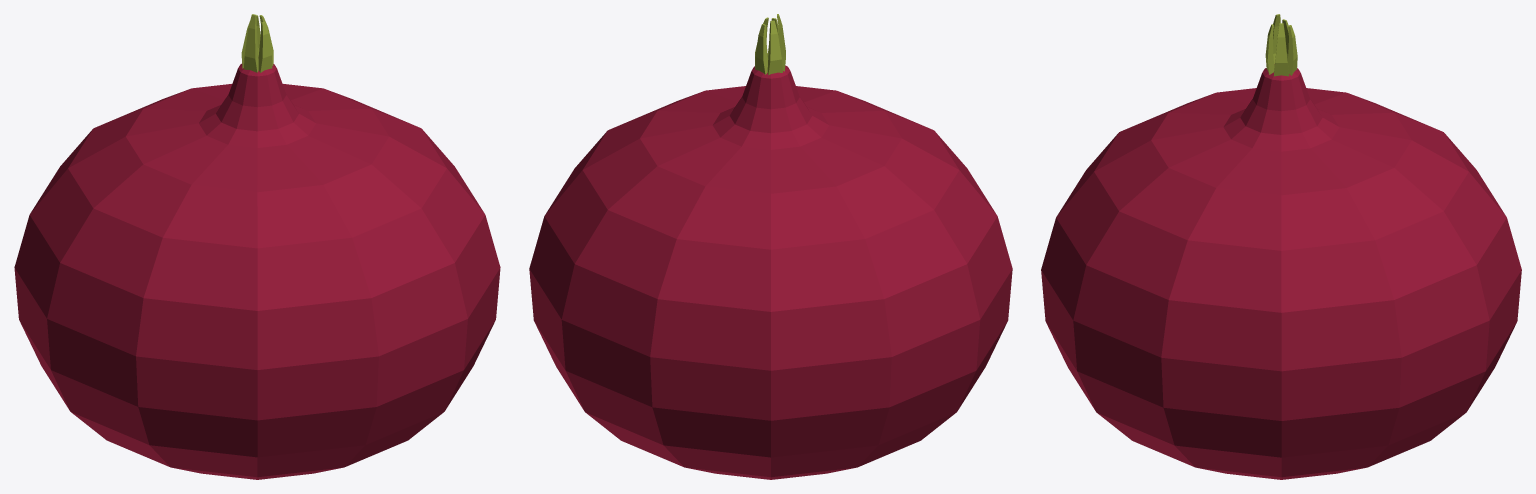
File: red-onion.fbx
The picture shows the model from 3 angles, left to right: view 1: azimuth 30°, elevation 25°; view 2: azimuth 150°, elevation 25°; view 3: azimuth 270°, elevation 25°; orthographic projection.
Parts seen in each view (by area): view 1: onion.001; view 2: onion.001; view 3: onion.001.
Part boxes in pixels (x1,y1,x2,y2): onion.001: [14, 14, 500, 479]; onion.001: [529, 14, 1012, 479]; onion.001: [1041, 14, 1521, 479].
Bounding box in the file's own units: 204 × 205 × 204.
